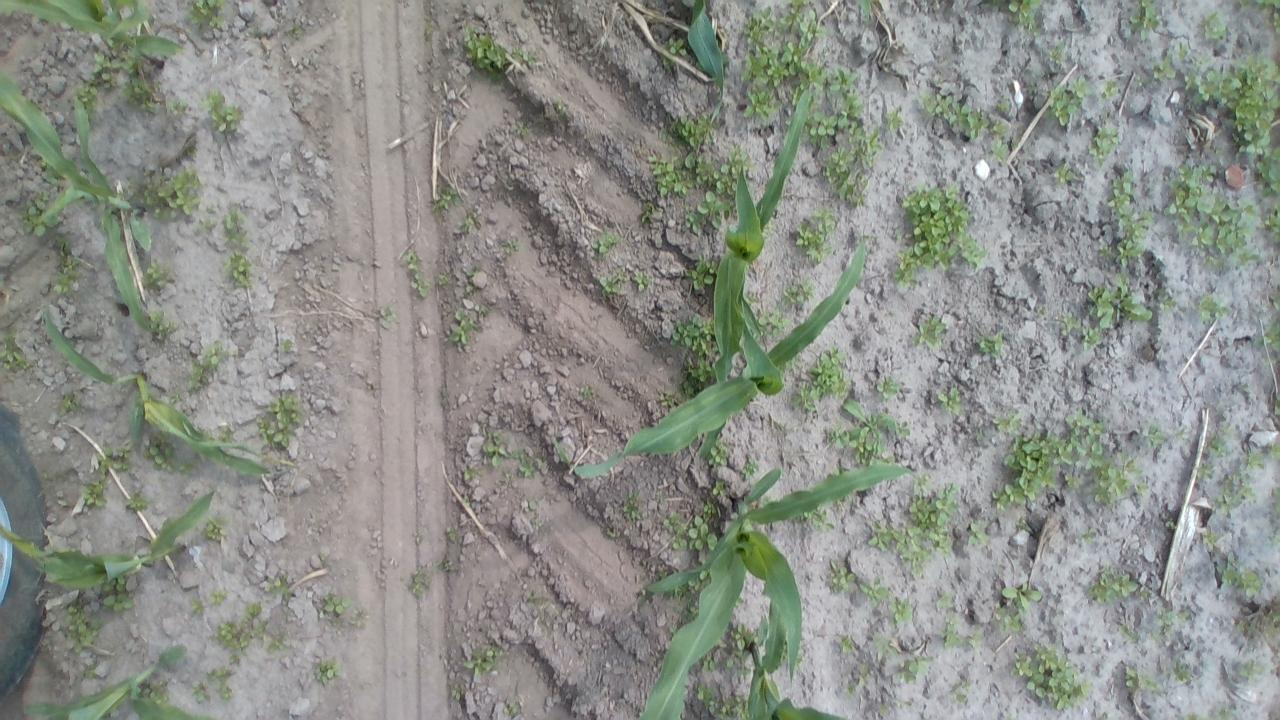Maize: (573, 221, 865, 479), (639, 462, 914, 719), (0, 78, 159, 328), (36, 309, 274, 476), (714, 82, 811, 385), (0, 487, 215, 592), (0, 0, 182, 88), (19, 646, 194, 720), (742, 604, 844, 717), (686, 0, 726, 129)
Weeds: (995, 410, 1147, 510), (1166, 162, 1260, 267), (739, 2, 823, 119), (891, 182, 986, 284), (1184, 57, 1280, 154), (1017, 642, 1092, 710), (836, 399, 908, 464), (868, 525, 952, 580), (1108, 173, 1150, 268), (808, 68, 864, 135), (920, 87, 985, 138), (1092, 278, 1152, 328), (143, 167, 202, 217), (793, 206, 838, 266), (1096, 452, 1148, 503), (826, 149, 868, 206), (258, 395, 302, 448), (908, 483, 957, 528), (650, 152, 696, 198), (214, 604, 262, 648), (1235, 602, 1280, 648), (858, 106, 899, 156), (1046, 80, 1086, 128), (1217, 472, 1257, 517), (82, 448, 111, 510), (51, 236, 80, 293), (467, 33, 510, 70), (66, 608, 100, 654), (810, 347, 845, 391), (1090, 572, 1138, 602), (684, 514, 720, 552), (698, 157, 739, 190), (211, 88, 242, 130), (675, 113, 711, 149), (1221, 566, 1262, 597), (146, 433, 176, 475), (206, 668, 238, 706), (1090, 124, 1120, 164), (1253, 148, 1280, 192), (692, 681, 724, 717), (403, 250, 427, 296), (188, 0, 226, 29), (698, 192, 728, 228), (130, 57, 152, 106), (1007, 1, 1044, 30), (825, 561, 856, 595), (782, 278, 814, 310), (93, 54, 126, 85), (462, 644, 501, 670), (1244, 445, 1280, 472), (685, 362, 716, 393), (1002, 584, 1040, 609), (228, 201, 248, 248), (104, 581, 136, 610), (689, 320, 716, 354), (482, 435, 511, 466), (1131, 2, 1160, 32), (1200, 290, 1231, 318), (451, 315, 480, 344), (916, 318, 944, 348), (660, 514, 683, 550), (1267, 290, 1280, 353), (1, 342, 30, 369), (938, 386, 964, 416), (758, 311, 789, 336), (995, 604, 1022, 632), (870, 632, 899, 658), (1152, 52, 1176, 82), (1122, 668, 1158, 688), (673, 320, 700, 346), (689, 262, 713, 291), (730, 624, 756, 650), (26, 191, 54, 215), (22, 208, 46, 236), (226, 252, 248, 282), (591, 232, 620, 254), (1201, 12, 1225, 38), (142, 264, 170, 286), (186, 359, 208, 387), (897, 660, 929, 679), (314, 656, 337, 682), (792, 382, 814, 409), (860, 578, 887, 600), (1261, 207, 1280, 238), (876, 377, 899, 400), (148, 681, 172, 703), (980, 332, 1004, 354), (436, 184, 456, 210), (1199, 526, 1219, 552), (944, 622, 964, 648), (206, 518, 228, 541), (517, 452, 538, 476), (934, 587, 958, 608), (811, 511, 835, 532), (991, 412, 1022, 428), (1198, 458, 1215, 487), (726, 696, 748, 718), (989, 142, 1010, 164), (1269, 487, 1280, 528), (208, 342, 226, 367), (412, 570, 429, 596), (1269, 1, 1280, 41), (324, 596, 351, 612), (1057, 312, 1078, 332), (891, 598, 912, 618), (623, 499, 642, 520), (267, 634, 286, 655), (669, 37, 688, 58), (109, 448, 130, 467), (1156, 622, 1174, 644), (1054, 162, 1073, 182), (966, 626, 985, 646), (80, 83, 98, 104), (1045, 41, 1063, 62), (1212, 430, 1226, 457), (969, 520, 984, 545), (954, 688, 972, 708), (634, 274, 654, 292), (60, 391, 76, 413), (150, 314, 168, 333), (711, 449, 730, 467), (128, 496, 150, 511), (1086, 326, 1102, 346), (194, 682, 208, 704), (1150, 425, 1164, 447), (1160, 292, 1176, 311), (522, 498, 540, 514), (463, 463, 479, 481), (1100, 80, 1116, 98), (504, 700, 519, 719), (264, 578, 281, 594), (600, 277, 616, 294), (284, 18, 300, 35), (203, 216, 220, 232), (453, 219, 467, 238), (641, 204, 654, 224), (702, 654, 718, 670), (742, 462, 758, 478), (1178, 663, 1194, 679), (711, 481, 728, 496), (860, 662, 874, 680), (1116, 624, 1134, 638), (1242, 660, 1260, 674), (1216, 707, 1235, 720), (727, 655, 744, 669), (220, 427, 234, 444), (745, 290, 764, 301), (504, 235, 520, 248), (991, 121, 1007, 134), (1076, 531, 1096, 541), (382, 306, 396, 320), (174, 100, 188, 114), (996, 98, 1010, 112), (841, 636, 857, 648), (514, 48, 530, 60), (702, 501, 719, 512), (278, 339, 292, 352), (83, 666, 98, 678), (1098, 243, 1110, 258), (1159, 608, 1174, 620), (193, 601, 204, 617), (1179, 40, 1190, 56), (518, 118, 530, 132), (446, 526, 456, 542), (878, 704, 891, 716), (916, 474, 931, 484), (1192, 54, 1204, 66), (960, 672, 971, 684), (228, 652, 239, 664), (661, 394, 672, 406), (847, 679, 856, 693), (214, 592, 228, 601), (686, 213, 695, 227), (580, 386, 594, 394), (554, 96, 564, 107), (1166, 520, 1177, 530), (208, 204, 220, 213), (436, 276, 448, 284), (177, 462, 189, 470), (453, 690, 465, 698), (464, 283, 474, 292), (1180, 608, 1188, 618), (1186, 713, 1196, 720), (444, 560, 451, 570)
